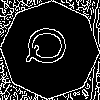Q: (25, 25, 76, 67)
